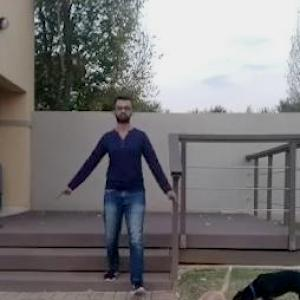land: (76, 103, 172, 283)
